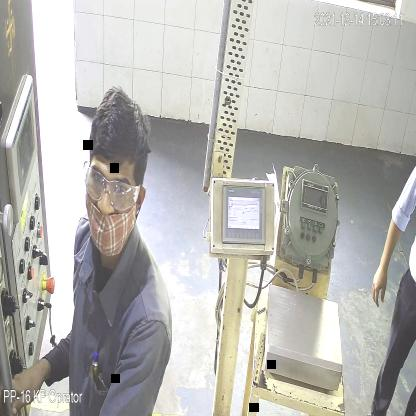goggles: (85, 168, 140, 212)
no_glove: (370, 214, 408, 315)
